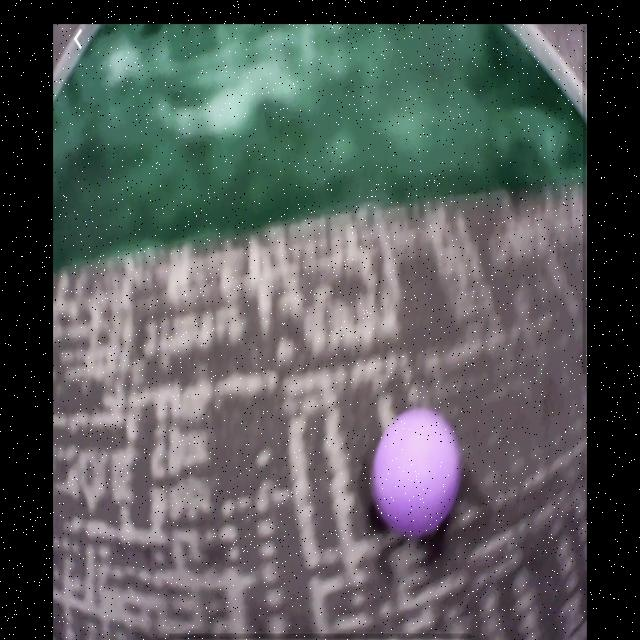ball: (373, 408, 461, 538)
